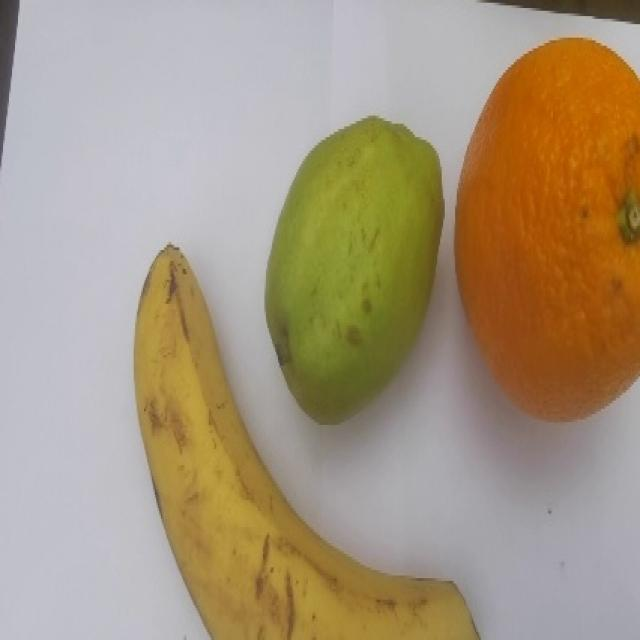Banana: (132, 242, 480, 638)
Orange: (453, 36, 639, 422)
